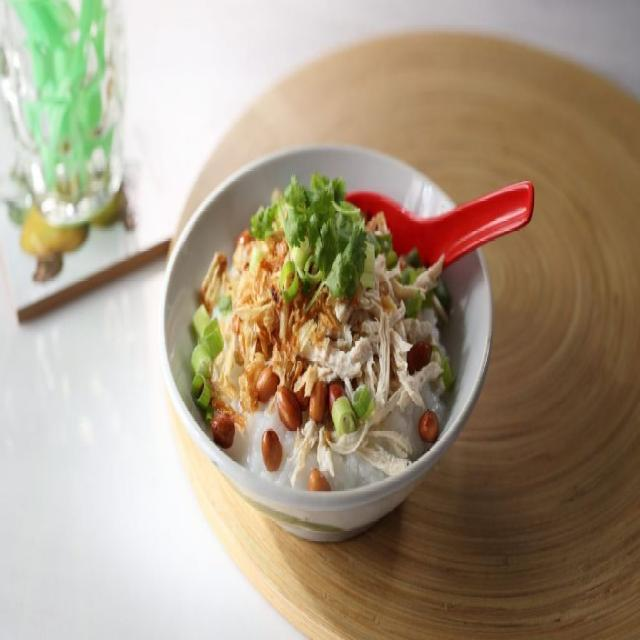bubur ayam: (194, 173, 456, 490)
mangkuk: (160, 145, 494, 543)
